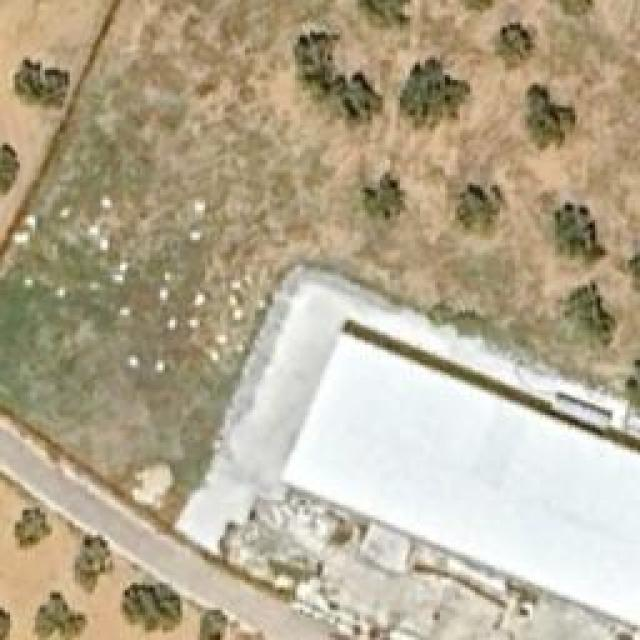Tree: (295, 33, 383, 133), (400, 58, 470, 131), (525, 85, 580, 150), (565, 280, 618, 345), (555, 203, 608, 263), (120, 582, 183, 630), (450, 185, 508, 233), (15, 58, 68, 108), (35, 590, 88, 640), (75, 533, 113, 593), (363, 172, 408, 220), (495, 22, 535, 70), (15, 508, 53, 553), (358, 0, 411, 30), (0, 143, 20, 196), (197, 607, 227, 640)
